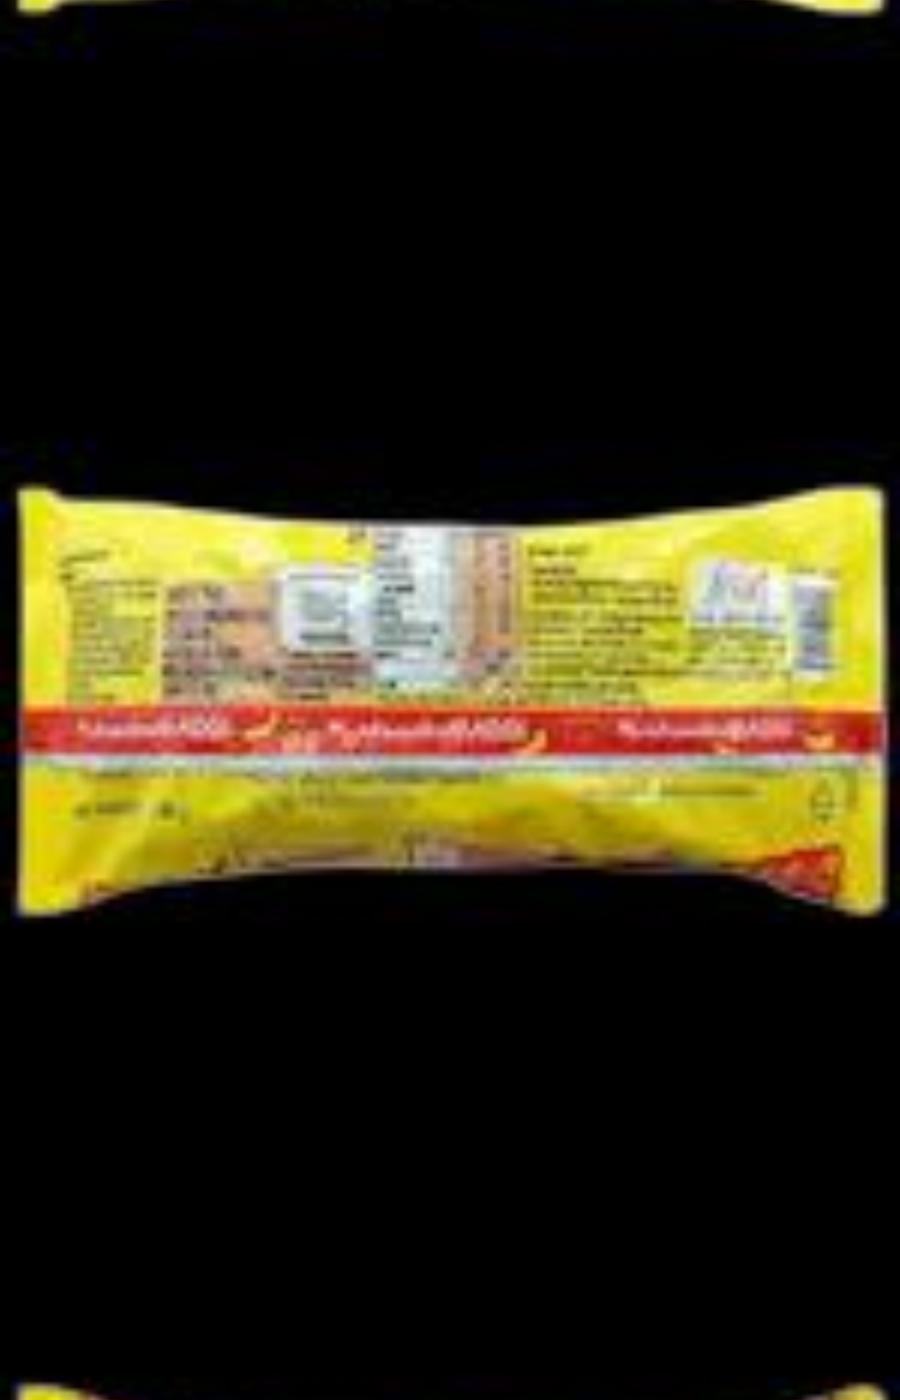Maggi 2-Minute Masala Instant Noodles 280 g: (17, 488, 887, 916)
